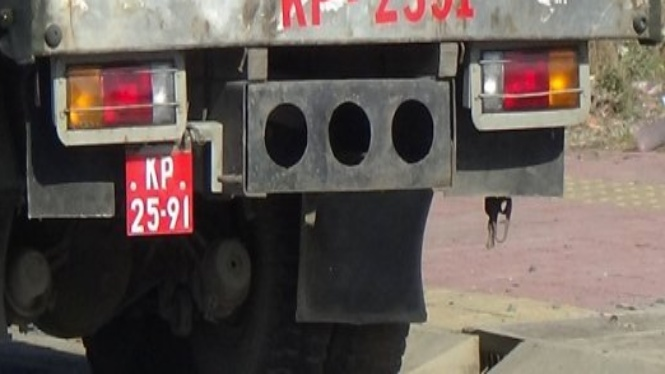plate: (121, 153, 191, 234)
